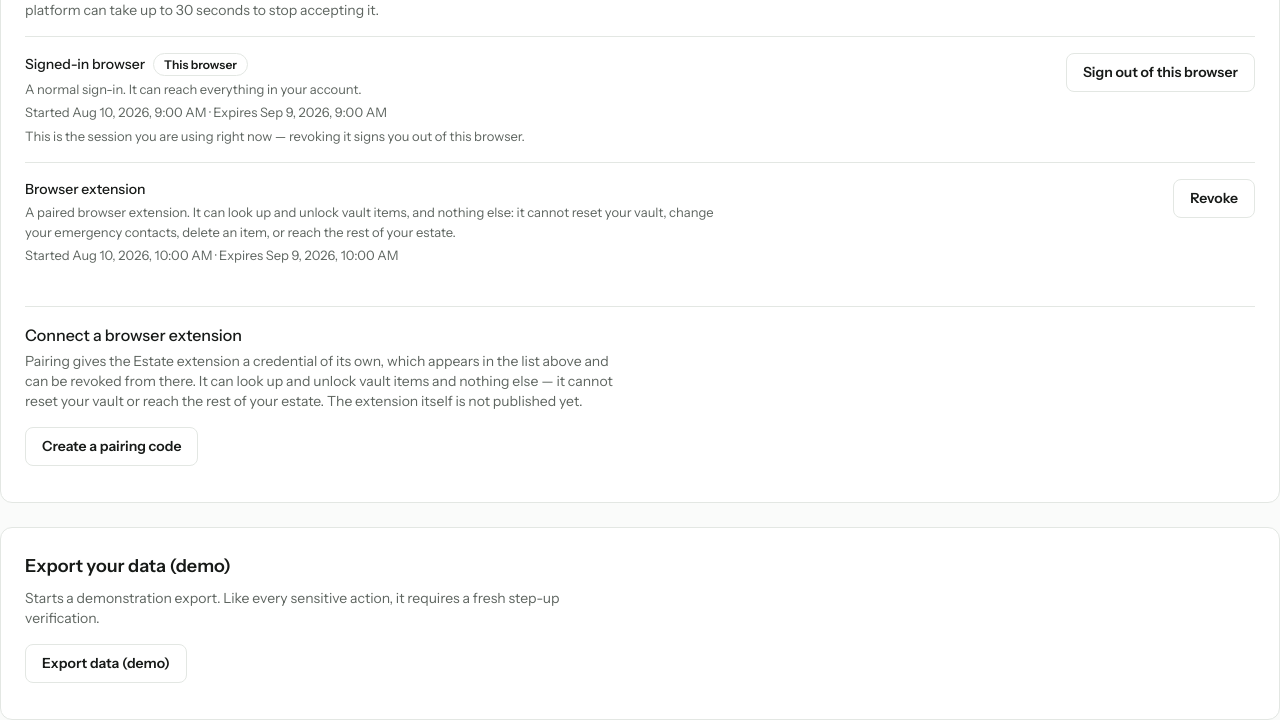
SecurityPanel › reveals the step-up prompt when export fails with STEPUP_REQUIRED, then succeeds after step-up
(page scrolled)
Expected: the field labelled "Confirm it’s you" is not shown
Click the button "Export data (demo)": (106, 663) 25,644 -> 187,683
(page scrolled)
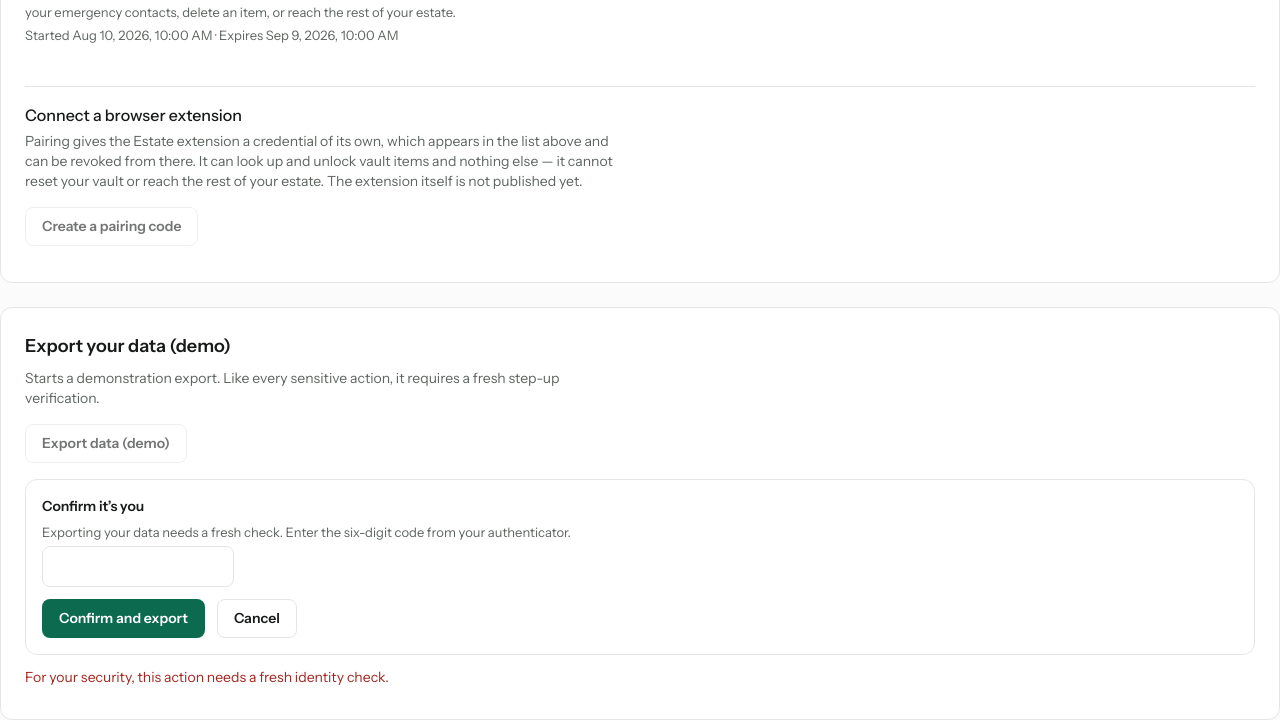
Expected: the text "Export started" is not shown
Now the text "For your security, this action needs a fresh identity check." is shown, box 25,668 -> 389,686
// The prompt RETRIES THE REFUSED ACTION itself — no second press.
In the field labelled "Confirm it’s you": (138, 566) 42,546 -> 234,587, type "123456"
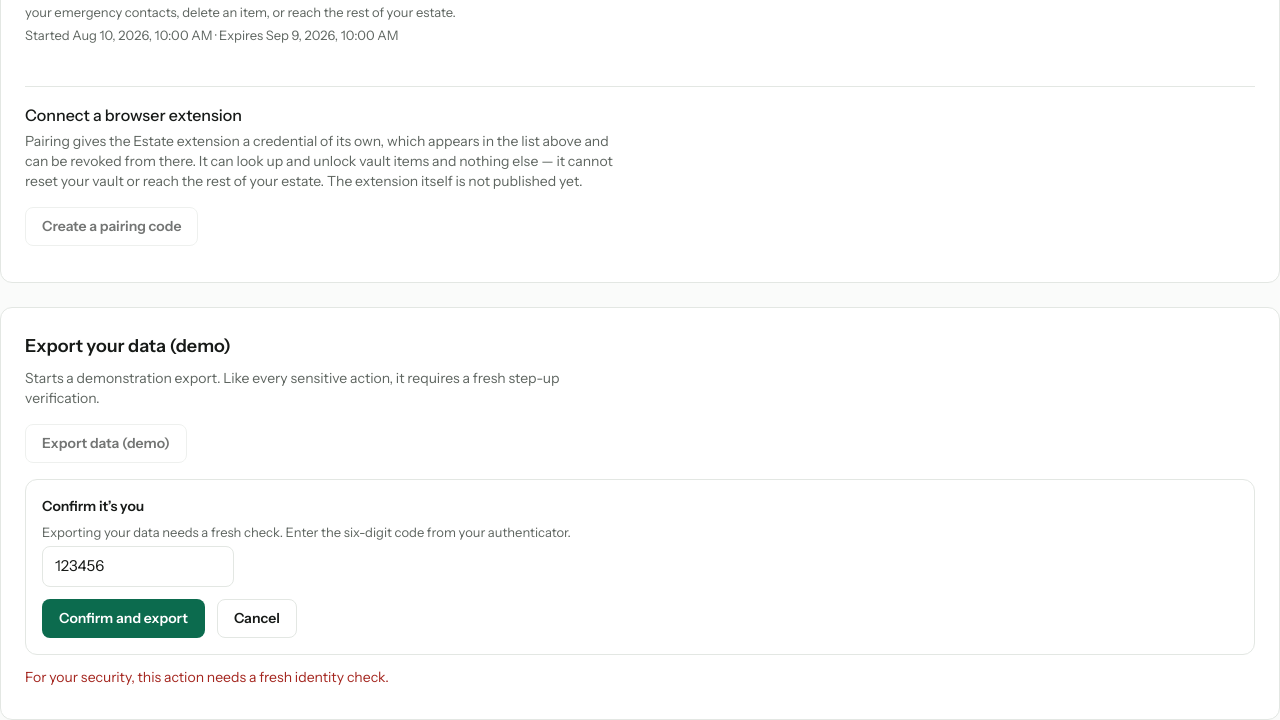
Click the button "Confirm and export": (123, 618) 42,599 -> 205,638
(page scrolled)
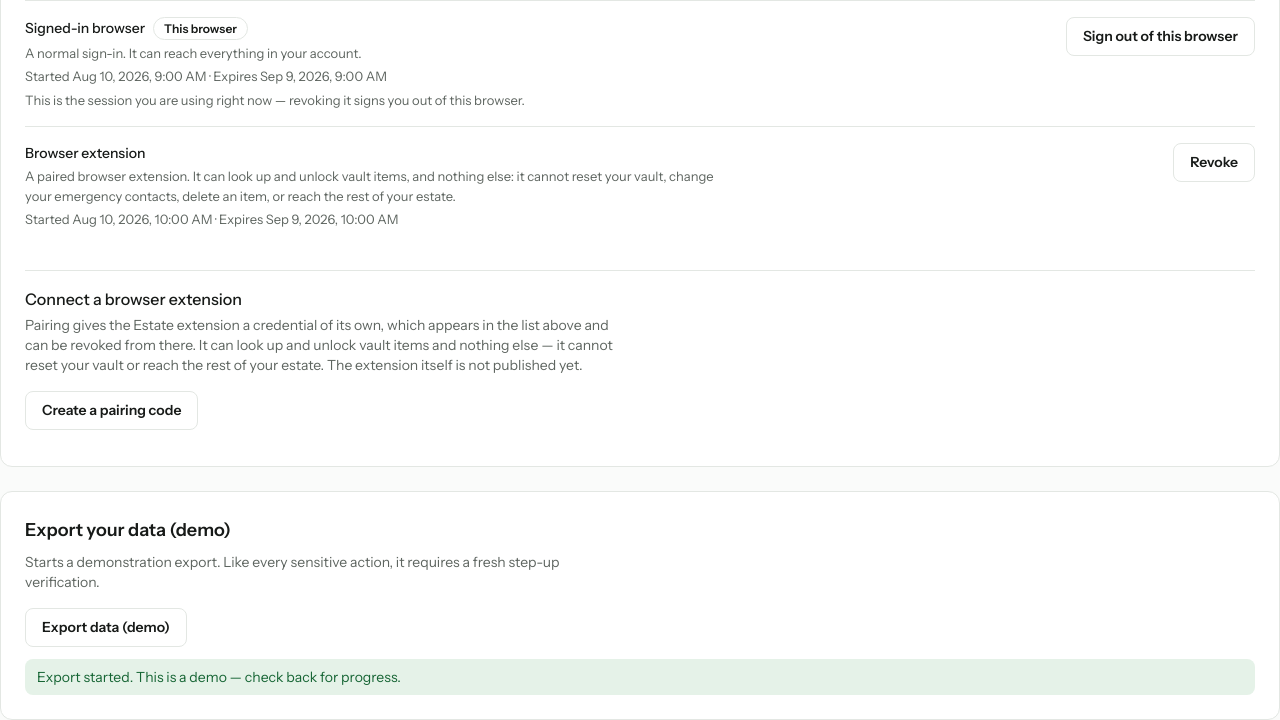
Now the text "Export started. This is a demo — check back for progress." is shown, box 25,659 -> 1255,695
